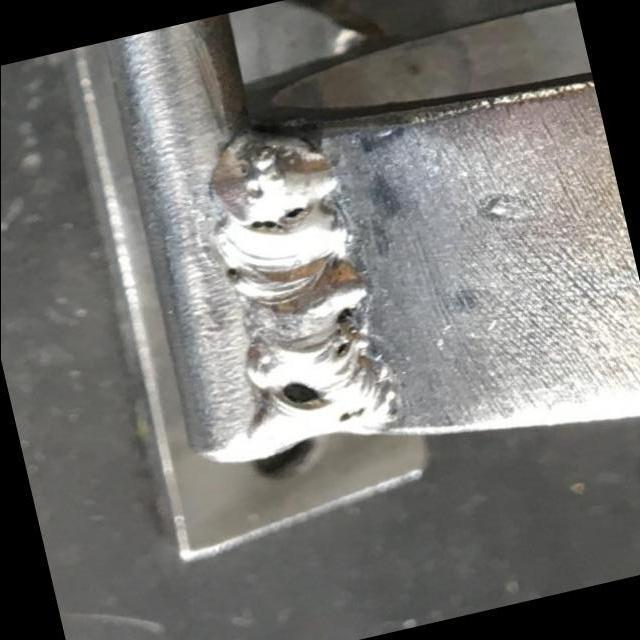defect: (271, 378, 338, 419), (320, 305, 360, 363), (247, 201, 310, 237), (223, 264, 242, 278)
